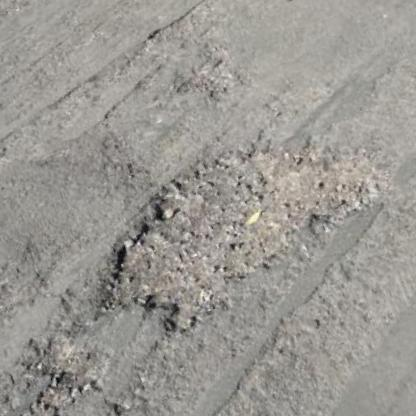pothole: (55, 87, 416, 363), (15, 314, 126, 411), (166, 46, 251, 113)
